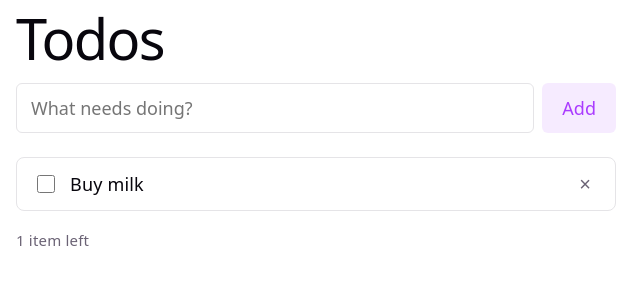
Scenario: deleting a todo › shows an error message when deleting fails
The width and height of the screenshot is (633, 305).
Check: the text "Buy milk" is shown, box [70,172,144,196]
Click the button named "Delete \"Buy milk\"".
click(585, 184)  # box [571,170,599,198]
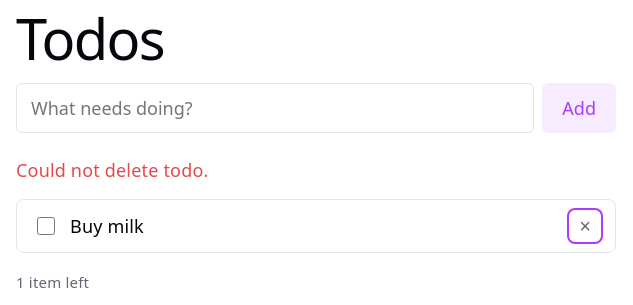
Check: the text "Could not delete todo." is shown, box [16,158,208,182]
